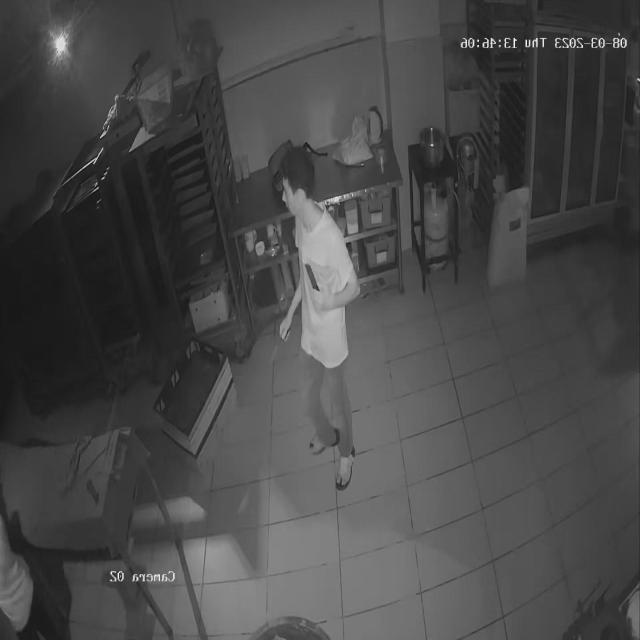Knife: (264, 316, 294, 372)
